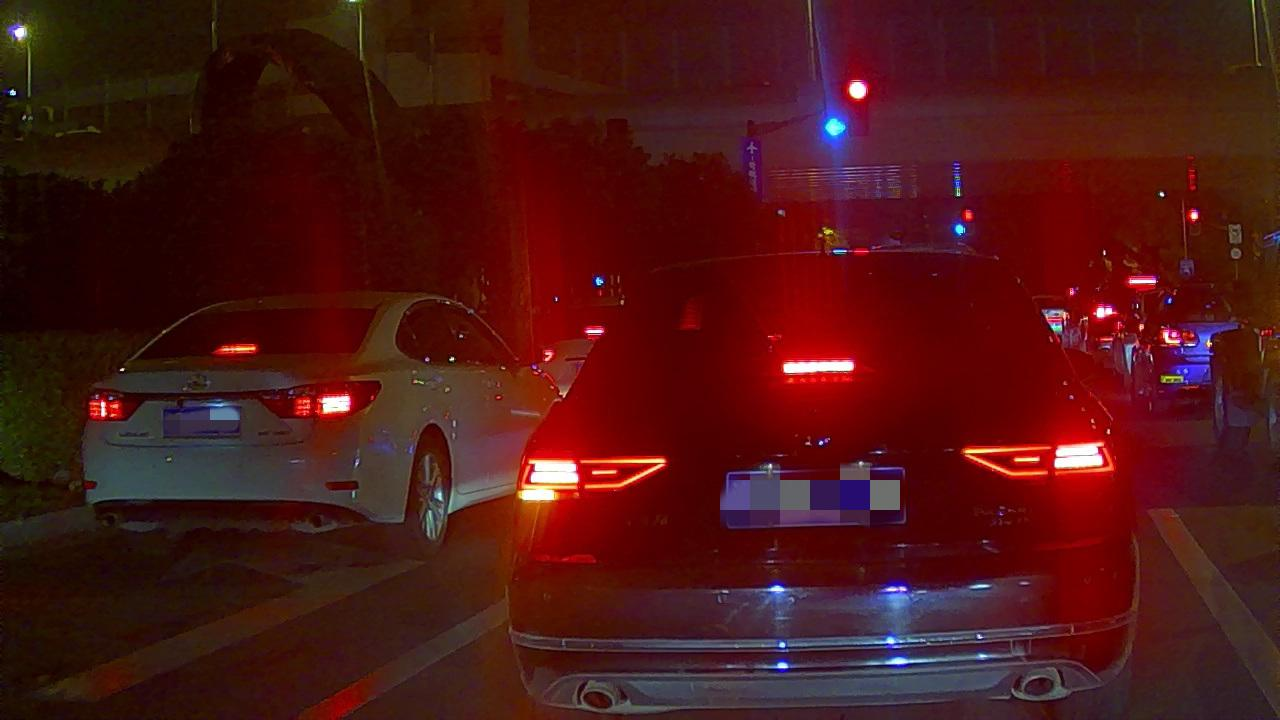traffic_light: (827, 119, 846, 137), (846, 83, 866, 99)
